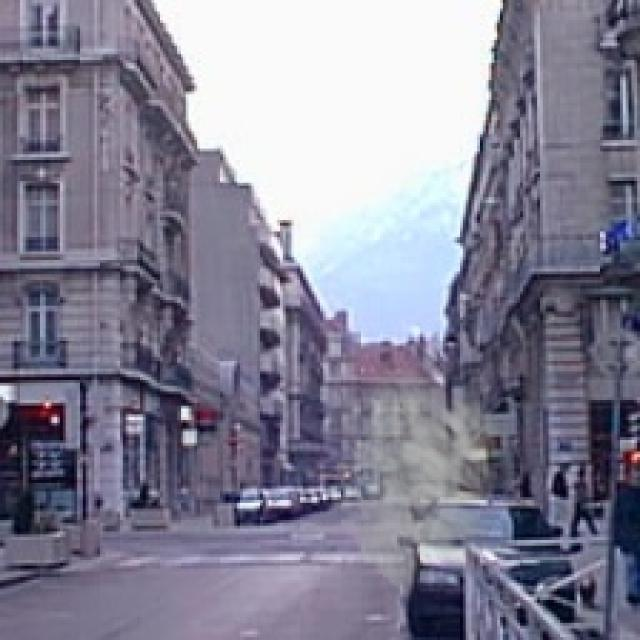smoke: (320, 357, 531, 600)
